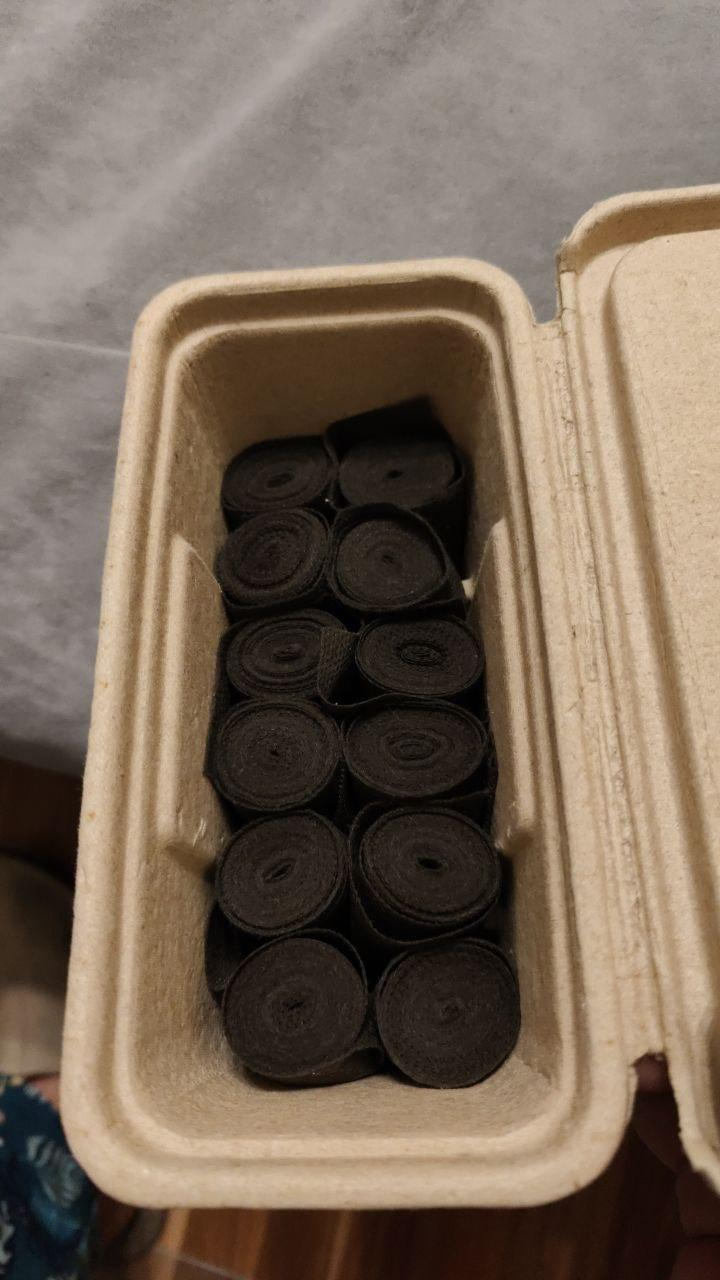roll: (210, 927, 383, 1083), (374, 939, 524, 1090), (350, 805, 503, 944), (210, 811, 352, 941), (341, 703, 492, 814), (207, 699, 346, 818), (327, 506, 463, 618), (212, 508, 338, 615), (349, 614, 489, 709), (217, 609, 350, 703), (333, 426, 466, 519), (216, 434, 337, 528)
